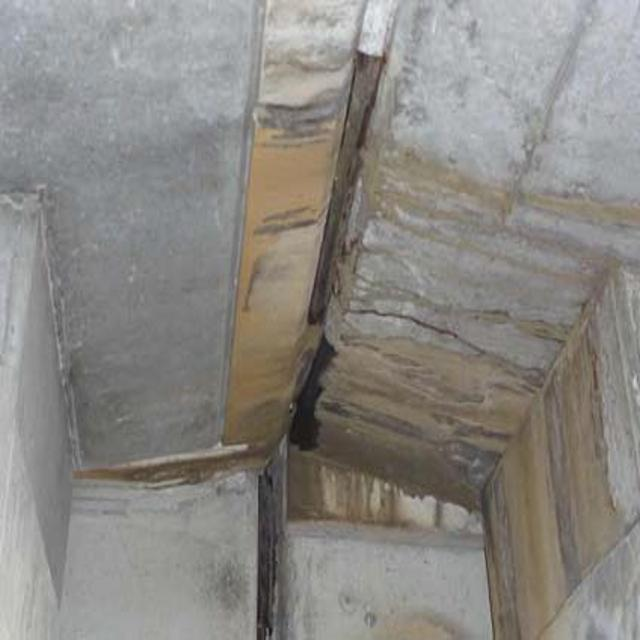leakage: (250, 46, 571, 547)
